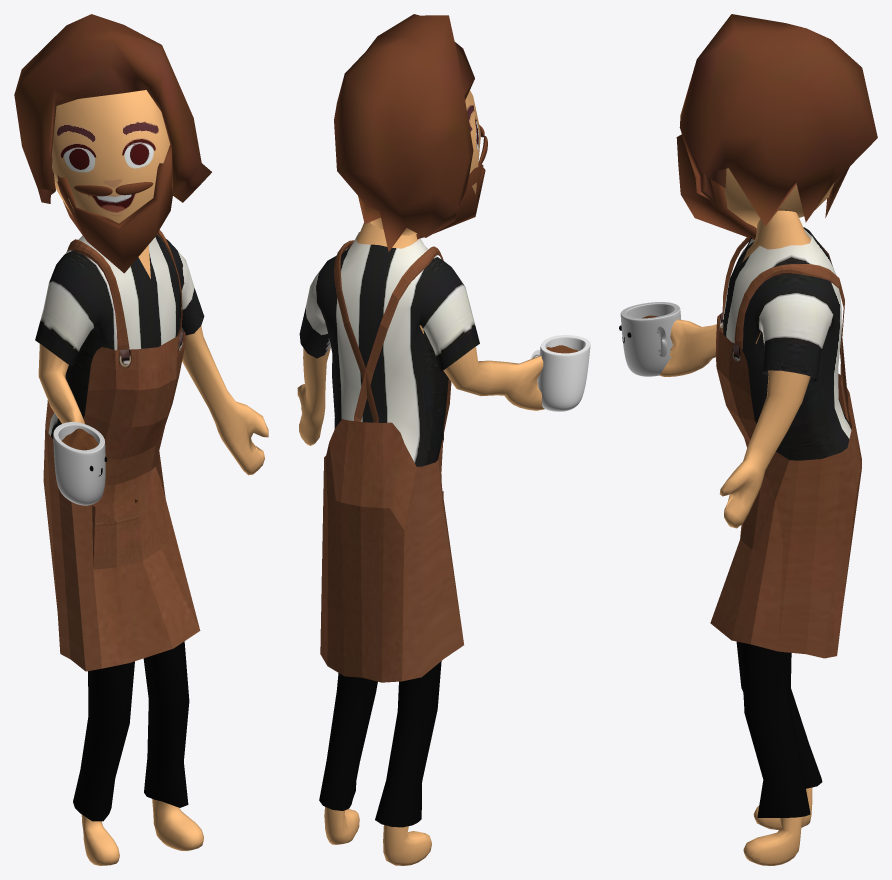
Rendered from FilkARman.glb.
3 renders of one model, left to right at view 1: azimuth 30°, elevation 25°; view 2: azimuth 150°, elevation 25°; view 3: azimuth 270°, elevation 25°, orthographic. The views are drawn at different scales.
Parts seen in each view (by area): view 1: Cube.002_4, Cube_2, Plane_3; view 2: Cube.002_4, Cube_2; view 3: Cube.002_4, Cube_2.
Boxes of the visible parts, x1=… form: Cube.002_4: x1=14, y1=14, x2=268, y2=865; Cube_2: x1=53, y1=422, x2=105, y2=505; Plane_3: x1=62, y1=428, x2=98, y2=450; Cube.002_4: x1=297, y1=14, x2=544, y2=865; Cube_2: x1=537, y1=335, x2=590, y2=411; Cube.002_4: x1=659, y1=14, x2=877, y2=865; Cube_2: x1=620, y1=302, x2=680, y2=376.
Size of the model in its own units: 0.1747 by 0.5669 by 0.1648.
Materials: 8 (4 with a texture image).
